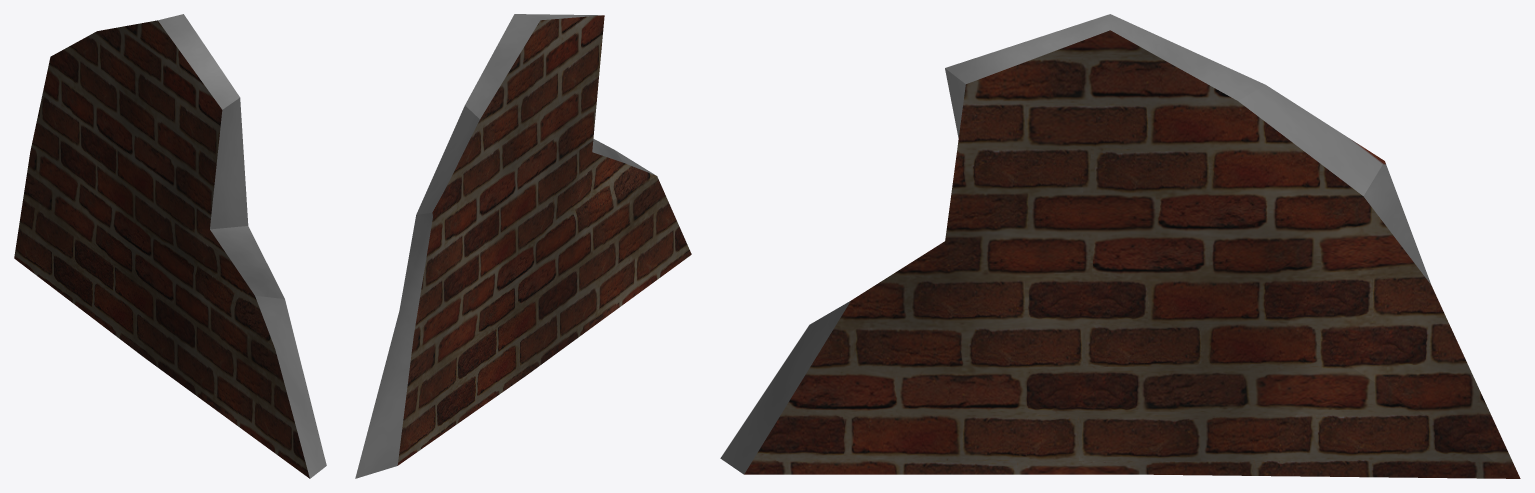
The model's file is wall_03.fbx.
3 renders of one model, left to right at view 1: azimuth 30°, elevation 25°; view 2: azimuth 150°, elevation 25°; view 3: azimuth 270°, elevation 25°, orthographic. The views are drawn at different scales.
Parts seen in each view (by area): view 1: wall_03; view 2: wall_03; view 3: wall_03.
Boxes of the visible parts, box(x1,y1,x2,y2) form: wall_03: box(14, 14, 326, 478); wall_03: box(355, 14, 691, 478); wall_03: box(720, 14, 1520, 478).
Bounding box in the file's own units: 17.74 × 228 × 368.
